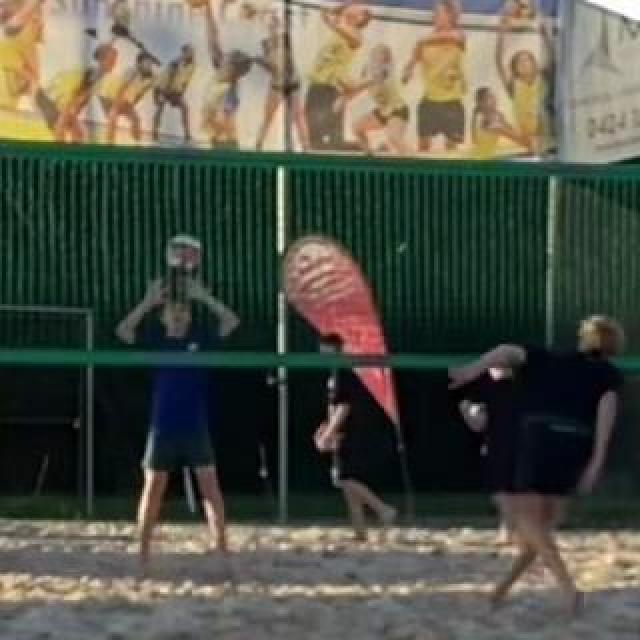volleyball: (166, 233, 204, 271)
